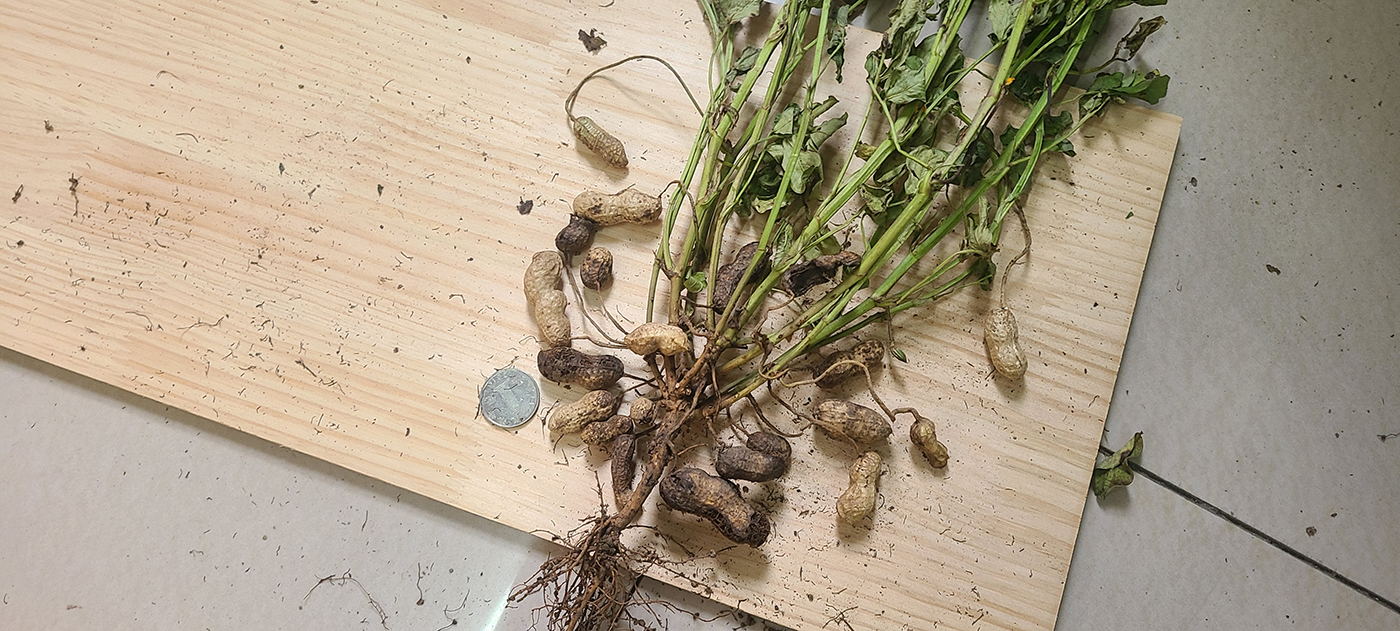h: (526, 251, 573, 350), (814, 397, 894, 445), (811, 339, 884, 387), (546, 389, 616, 437), (985, 307, 1029, 381), (836, 451, 880, 524), (574, 189, 661, 225), (573, 117, 629, 169), (910, 417, 953, 469), (611, 439, 638, 515), (624, 324, 690, 355), (584, 416, 632, 446), (749, 429, 792, 462), (582, 246, 612, 290), (631, 397, 661, 428)
l: (659, 469, 768, 550), (713, 242, 770, 315), (537, 348, 624, 390), (785, 252, 863, 294), (717, 443, 782, 481), (556, 217, 599, 255)
